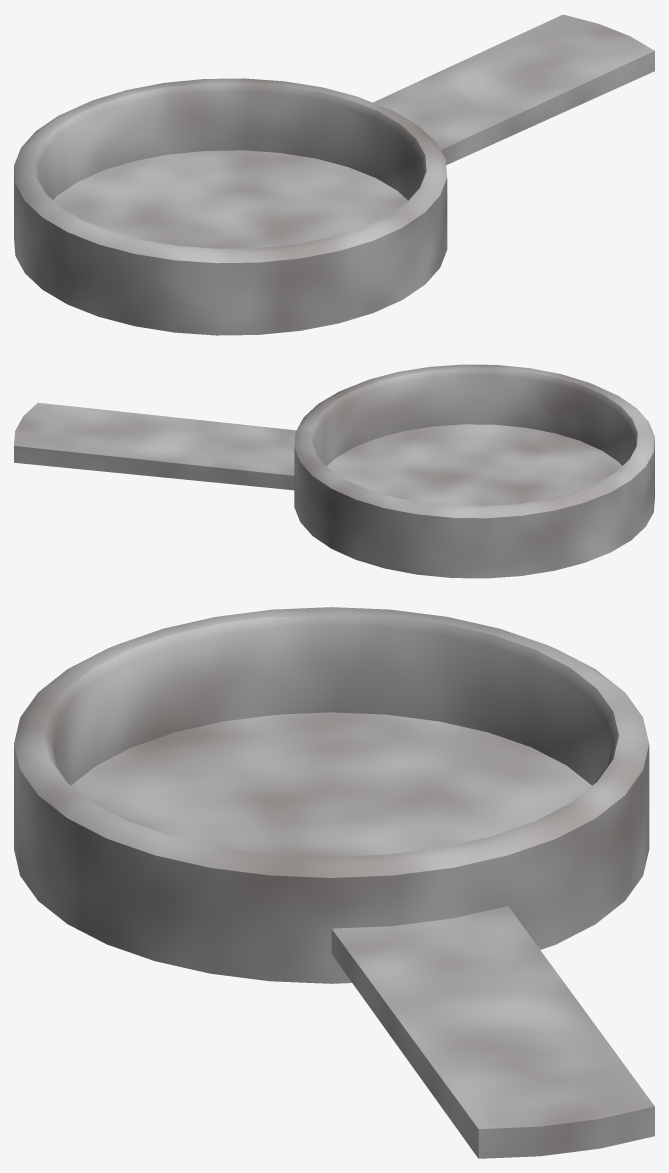
File: Olla_Terminada.fbx
The picture shows the model from 3 angles, top to bottom: view 1: azimuth 30°, elevation 25°; view 2: azimuth 150°, elevation 25°; view 3: azimuth 270°, elevation 25°; orthographic projection. The views are drawn at different scales.
Parts seen in each view (by area): view 1: Olla; view 2: Olla; view 3: Olla.
Boxes of the visible parts, bbox=[...] form: Olla: bbox=[14, 14, 654, 335]; Olla: bbox=[14, 364, 654, 578]; Olla: bbox=[14, 607, 654, 1158].
Size of the model in its own units: 352 by 39.66 by 202.
1 material, 1 textured.
